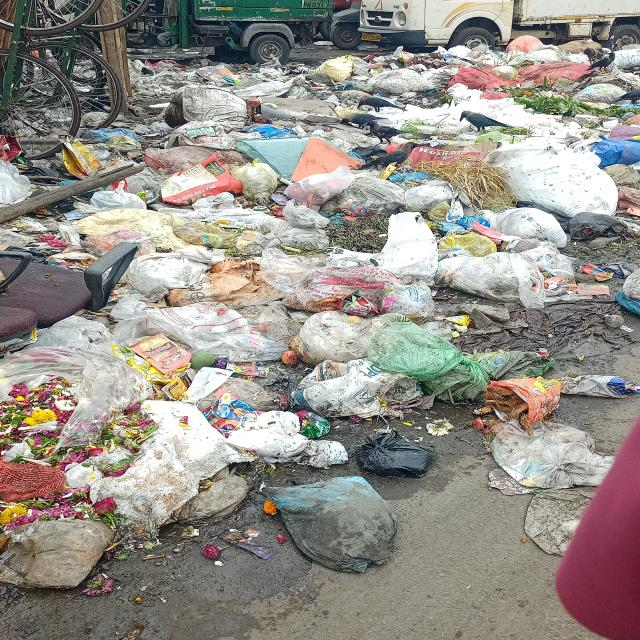garbage: (10, 49, 640, 581)
